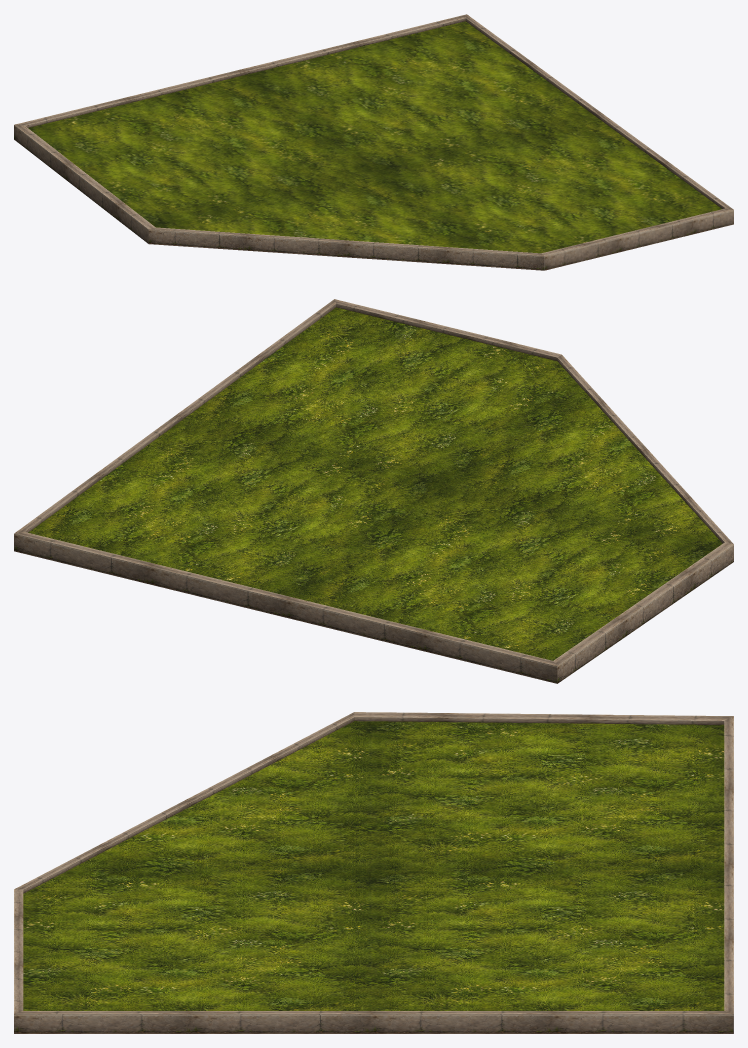
Rendered from JardinB.fbx.
The picture shows the model from 3 angles, top to bottom: view 1: azimuth 30°, elevation 25°; view 2: azimuth 150°, elevation 25°; view 3: azimuth 270°, elevation 25°; orthographic projection. The views are drawn at different scales.
Visible parts, largest first — view 1: Jardin_Salida.001; view 2: Jardin_Salida.001; view 3: Jardin_Salida.001.
Part boxes in pixels (x1=…): Jardin_Salida.001: x1=14, y1=14, x2=733, y2=270; Jardin_Salida.001: x1=14, y1=299, x2=733, y2=683; Jardin_Salida.001: x1=14, y1=712, x2=733, y2=1033.
Bounding box in the file's own units: 0.4556 × 0.014 × 0.4591.
